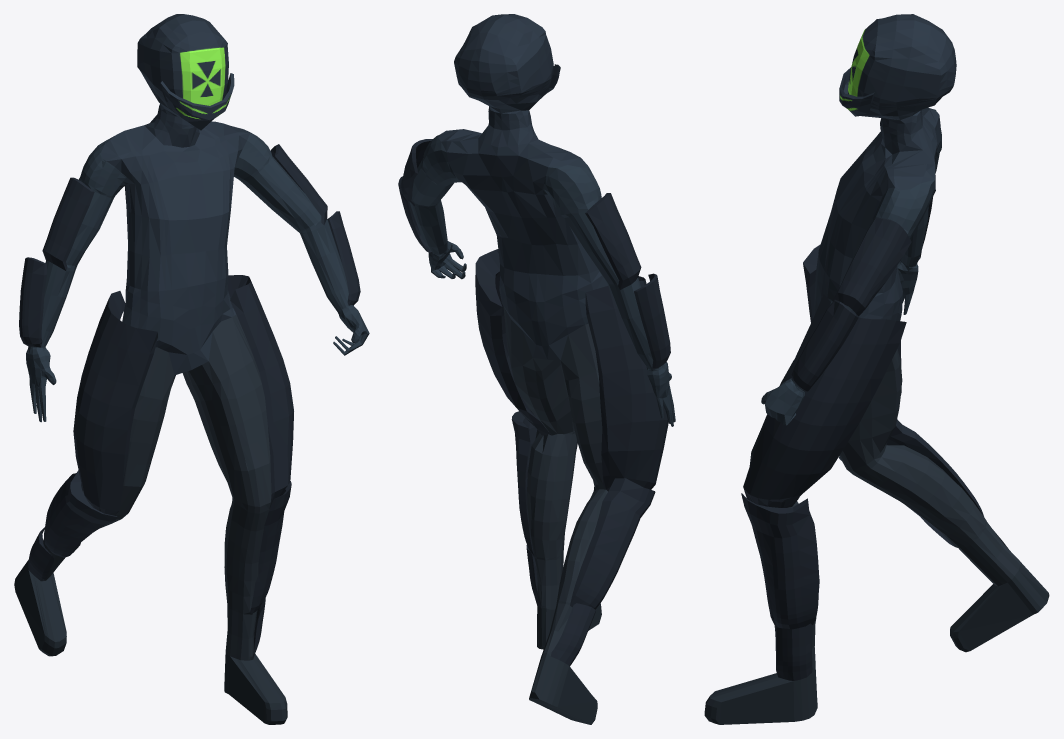
Rendered from Bastion_Hit_000010.obj.
3 views of the same model, side by side, from view 1: azimuth 30°, elevation 25°; view 2: azimuth 150°, elevation 25°; view 3: azimuth 270°, elevation 25° (orthographic). The views are drawn at different scales.
Parts seen in each view (by area): view 1: Cube.002; view 2: Cube.002; view 3: Cube.002.
Boxes of the visible parts, left/top/right/bottom form: Cube.002: left=14, top=14, right=369, bottom=724; Cube.002: left=398, top=14, right=675, bottom=724; Cube.002: left=704, top=14, right=1049, bottom=724.
Bounding box in the file's own units: 1.79 × 3.76 × 1.69.
